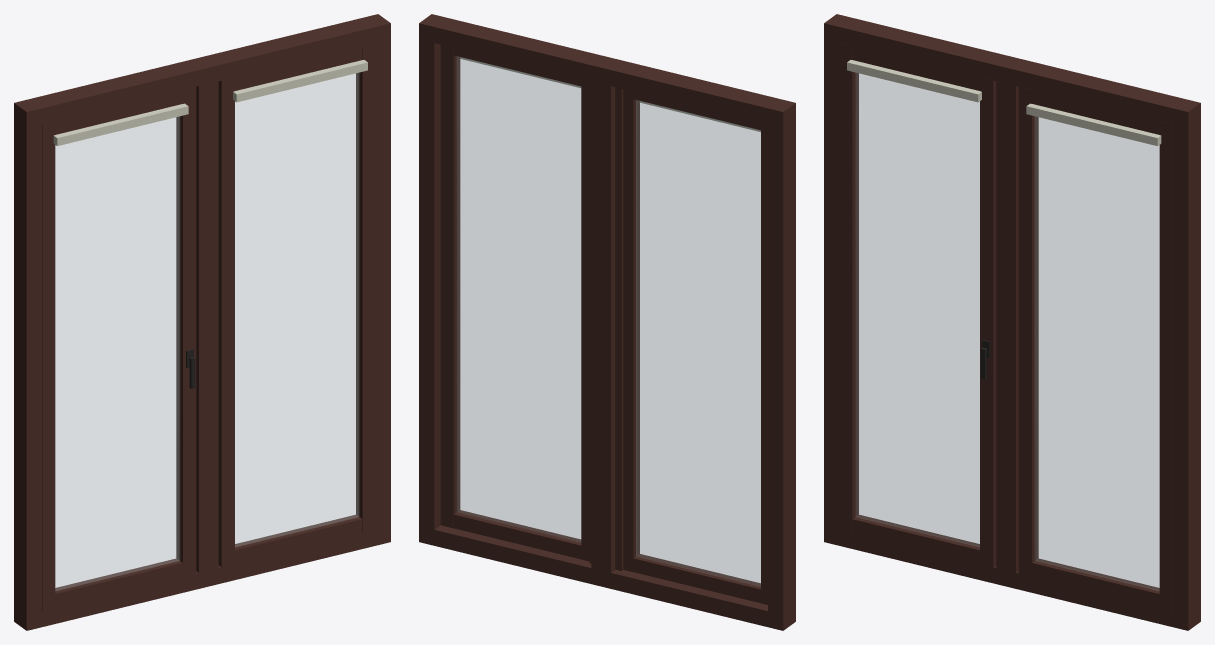
3 views of the same model, side by side, from view 1: azimuth 30°, elevation 25°; view 2: azimuth 150°, elevation 25°; view 3: azimuth 330°, elevation 25° (orthographic).
Visible parts, largest first — view 1: SlidingLeafGlass, FixedLeafGlass, Frame, CentrePost, SlidingLeafStileHi, FixedLeafStileHi, FixedLeafStileLo, SlidingLeafStileLo, SlidingLeafRailBottom, FixedLeafRailBottom, SlidingLeafRailTop, FixedLeafRailTop (+2 smaller); view 2: SlidingLeafGlass, FixedLeafGlass, Frame, CentrePost, FixedLeafStileHi, SlidingLeafStileHi, CentreStop, FixedLeafStileLo, SlidingLeafStileLo, FixedLeafRailBottom, SlidingLeafRailBottom, SlidingLeafRailTop (+1 smaller); view 3: FixedLeafGlass, SlidingLeafGlass, Frame, CentrePost, FixedLeafStileLo, SlidingLeafStileLo, SlidingLeafStileHi, FixedLeafStileHi, FixedLeafRailBottom, SlidingLeafRailBottom, SlidingLeafRailTop, FixedLeafRailTop (+2 smaller).
Part boxes in pixels (x1,y1,x2,y2): SlidingLeafGlass: (55, 116, 179, 590); FixedLeafGlass: (235, 73, 358, 547); Frame: (14, 14, 390, 630); CentrePost: (196, 81, 218, 572); SlidingLeafStileHi: (176, 87, 196, 576); FixedLeafStileHi: (356, 43, 375, 532); FixedLeafStileLo: (218, 77, 234, 567); SlidingLeafStileLo: (42, 121, 55, 611); SlidingLeafRailBottom: (55, 558, 182, 607); FixedLeafRailBottom: (235, 515, 362, 563); SlidingLeafRailTop: (55, 90, 182, 134); FixedLeafRailTop: (235, 46, 362, 90); SlidingLeafGlass: (636, 100, 760, 586); FixedLeafGlass: (457, 56, 580, 542); Frame: (419, 14, 795, 630); CentrePost: (591, 81, 615, 572); FixedLeafStileHi: (440, 44, 460, 528); SlidingLeafStileHi: (623, 89, 639, 571); CentreStop: (589, 81, 623, 570); FixedLeafStileLo: (581, 79, 589, 561); SlidingLeafStileLo: (761, 123, 767, 604); FixedLeafRailBottom: (454, 510, 581, 559); SlidingLeafRailBottom: (633, 554, 760, 603); SlidingLeafRailTop: (633, 91, 760, 130); FixedLeafGlass: (1035, 116, 1159, 590); SlidingLeafGlass: (855, 73, 979, 546); Frame: (824, 14, 1200, 630); CentrePost: (996, 81, 1018, 572); FixedLeafStileLo: (1018, 87, 1038, 576); SlidingLeafStileLo: (839, 43, 858, 532); SlidingLeafStileHi: (980, 77, 996, 567); FixedLeafStileHi: (1159, 121, 1172, 611); FixedLeafRailBottom: (1032, 558, 1159, 607); SlidingLeafRailBottom: (852, 515, 979, 563); SlidingLeafRailTop: (852, 46, 979, 90); FixedLeafRailTop: (1032, 90, 1159, 134).
Bounding box in the file's own units: 1.66 × 2.26 × 0.13.
